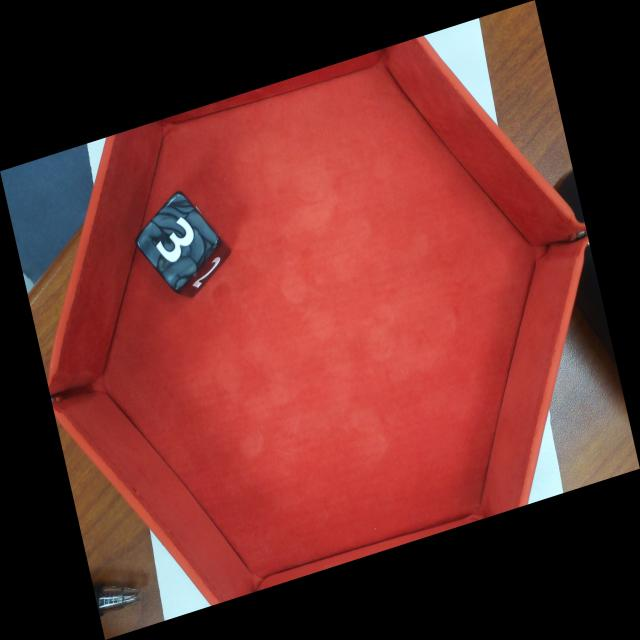dice: (131, 188, 222, 297)
